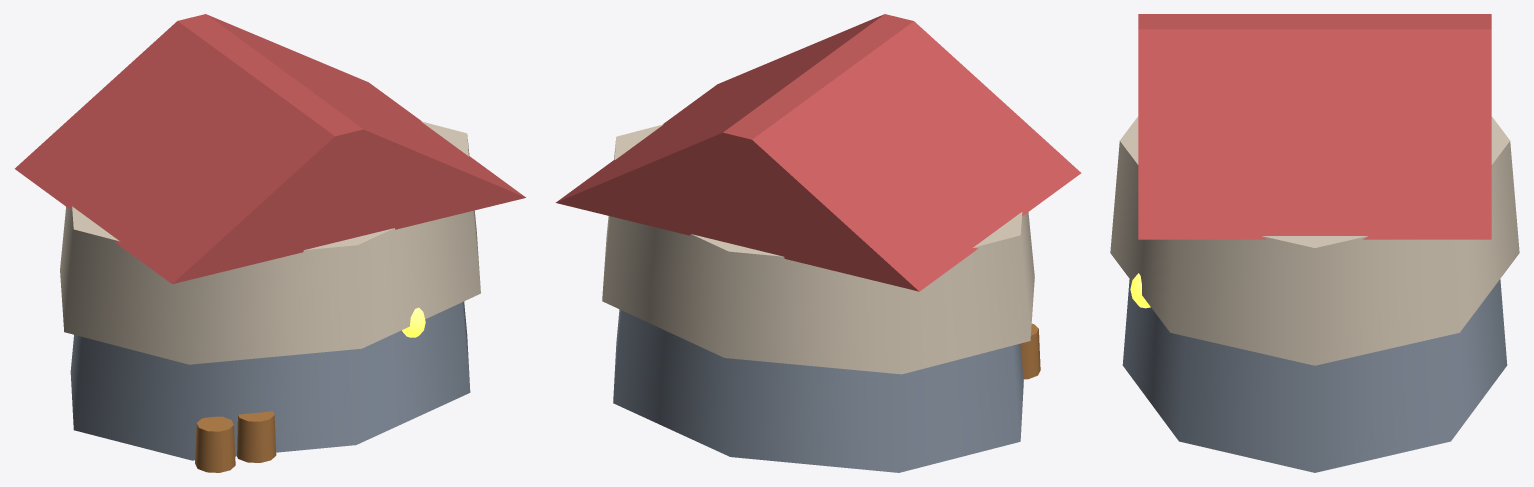
Rendered from tavern_baret.glb.
The picture shows the model from 3 angles, left to right: view 1: azimuth 30°, elevation 25°; view 2: azimuth 150°, elevation 25°; view 3: azimuth 270°, elevation 25°; orthographic projection. The views are drawn at different scales.
Parts seen in each view (by area): view 1: tavern_roof, tavern_upper, tavern_stone, tavern_barrels; view 2: tavern_roof, tavern_upper, tavern_stone, tavern_barrels; view 3: tavern_roof, tavern_upper, tavern_stone.
Boxes of the visible parts, x1=… form: tavern_roof: x1=14, y1=14, x2=525, y2=284; tavern_upper: x1=60, y1=121, x2=480, y2=364; tavern_stone: x1=70, y1=301, x2=470, y2=460; tavern_barrels: x1=195, y1=411, x2=276, y2=472; tavern_roof: x1=555, y1=14, x2=1081, y2=291; tavern_upper: x1=602, y1=124, x2=1034, y2=374; tavern_stone: x1=613, y1=309, x2=1023, y2=472; tavern_barrels: x1=1020, y1=323, x2=1040, y2=379; tavern_roof: x1=1138, y1=14, x2=1491, y2=239; tavern_upper: x1=1110, y1=116, x2=1519, y2=365; tavern_stone: x1=1122, y1=279, x2=1507, y2=472.
Bounding box in the file's own units: 11.18 × 7.95 × 8.58.
